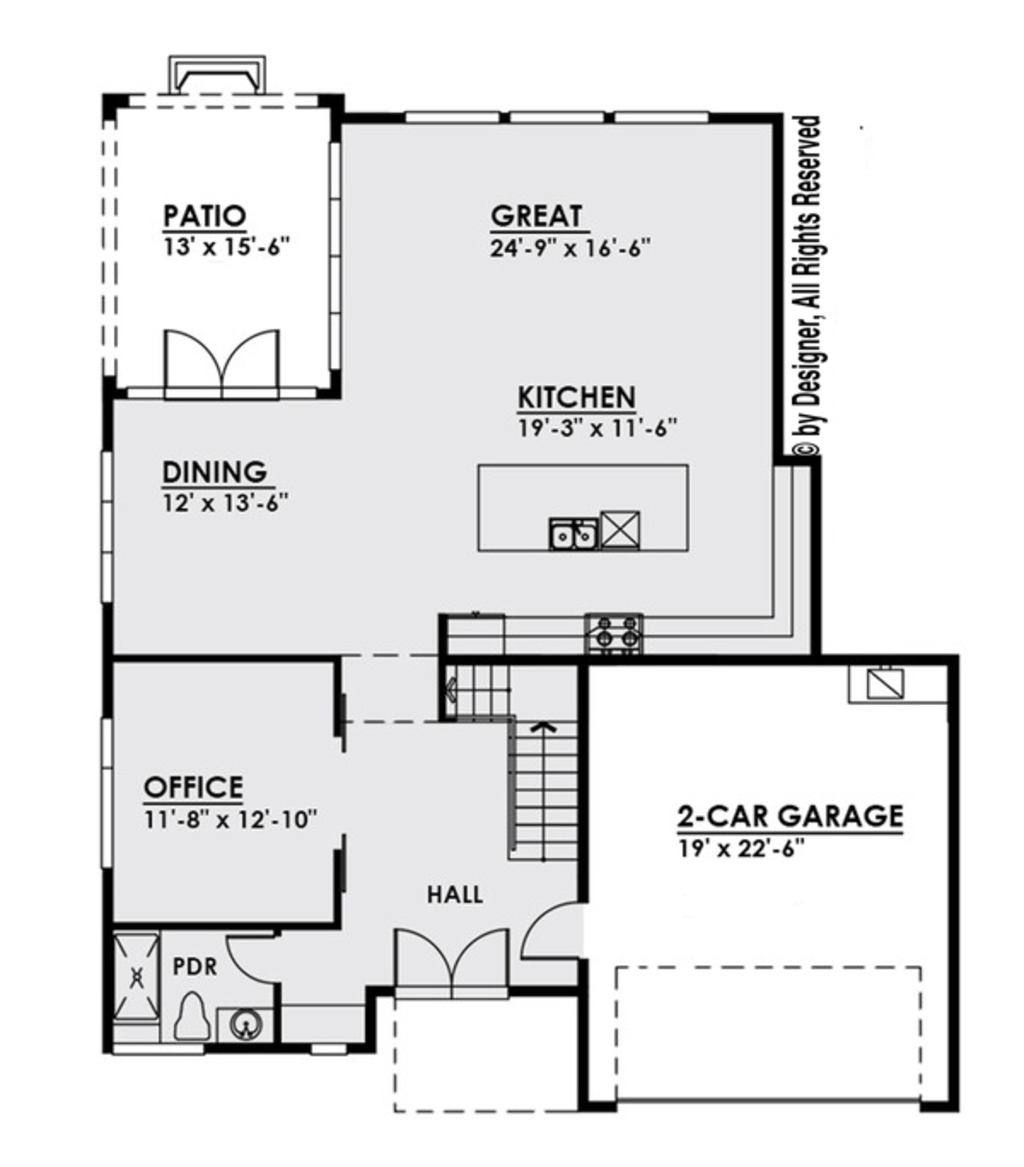door: (160, 321, 283, 408), (383, 924, 512, 1000), (519, 898, 590, 962), (223, 929, 286, 988)
large_sink: (165, 986, 212, 1040)
small_sink: (212, 1004, 274, 1040)
stairs: (434, 651, 588, 866)
windows: (398, 105, 712, 136), (92, 713, 122, 871), (98, 442, 119, 612)
